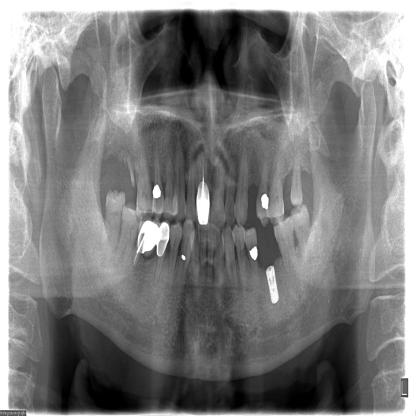ITI: (265, 261, 284, 307)
